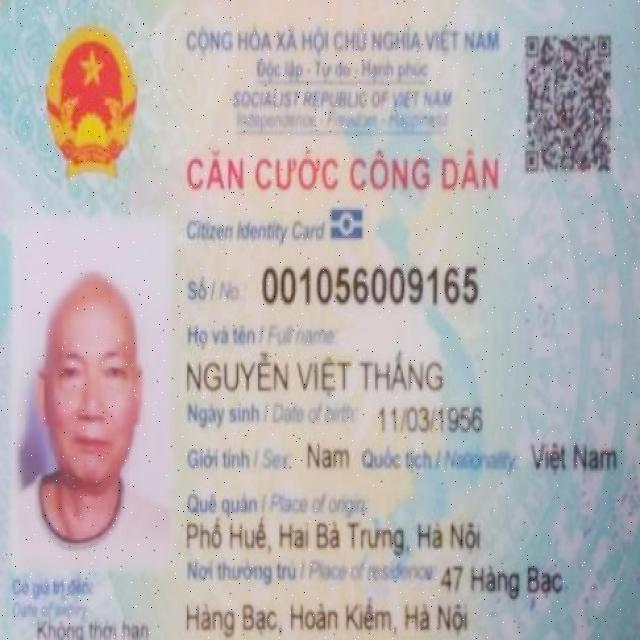current_place: (184, 598, 472, 638), (439, 562, 567, 597)
dob: (376, 402, 487, 437)
expire_date: (34, 616, 154, 640)
gender: (307, 439, 351, 471)
id: (258, 263, 482, 306)
name: (187, 350, 448, 395)
nationality: (530, 437, 620, 477)
origin_place: (185, 516, 481, 559)
